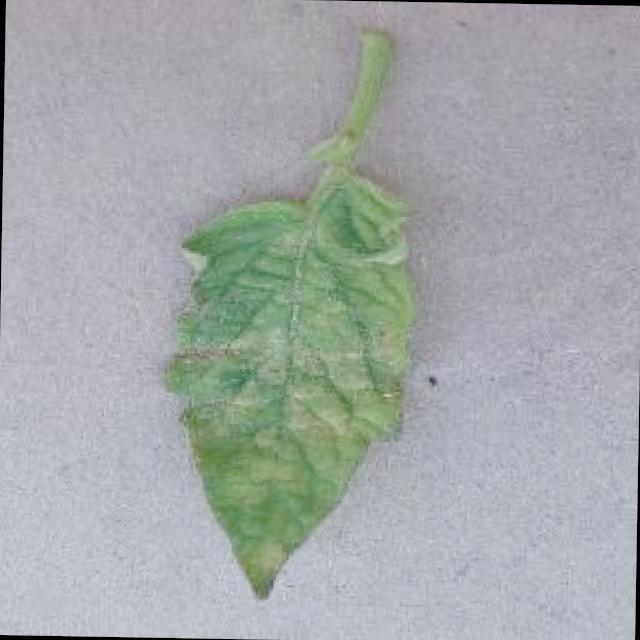Tomato mold leaf: (149, 164, 420, 607)
